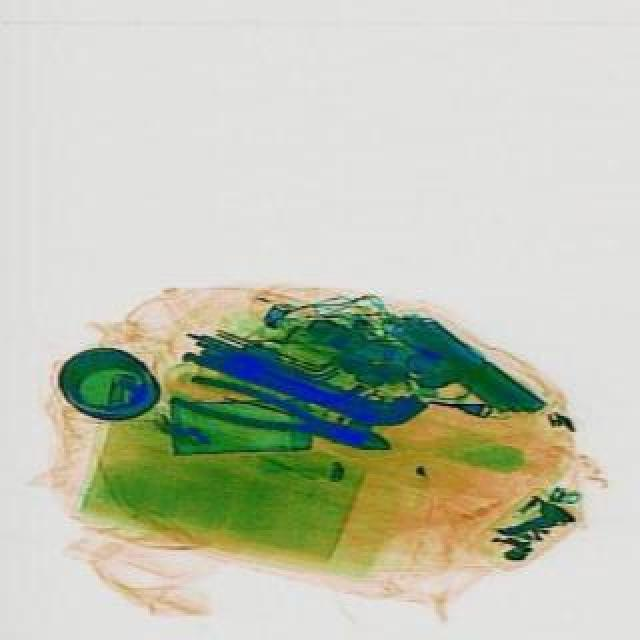wrench: (166, 366, 392, 466)
